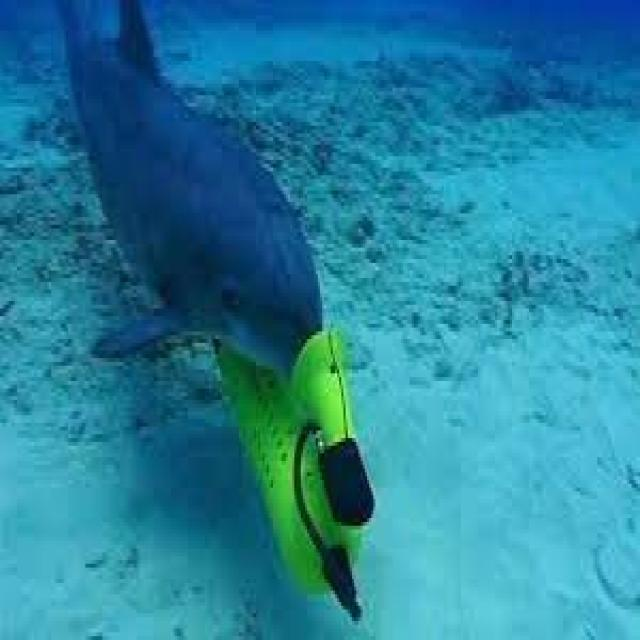dolphin: (57, 0, 375, 533)
